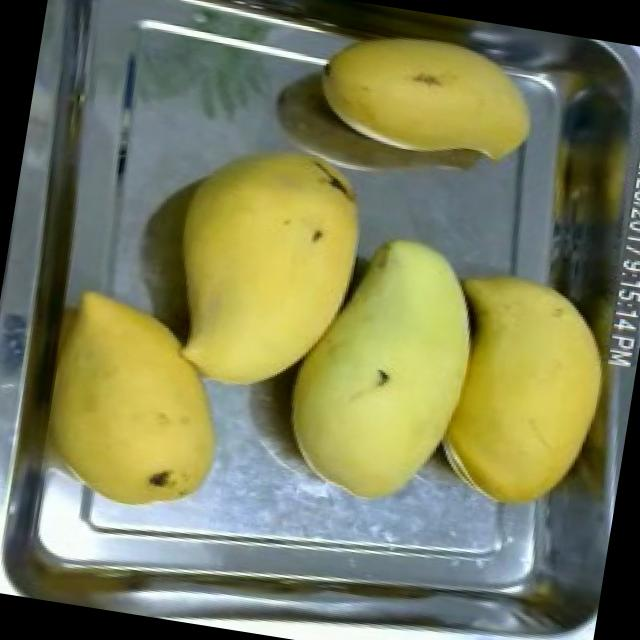fruit: (254, 206, 508, 528), (146, 124, 389, 420), (5, 266, 254, 536), (413, 254, 635, 540), (297, 8, 552, 183)
